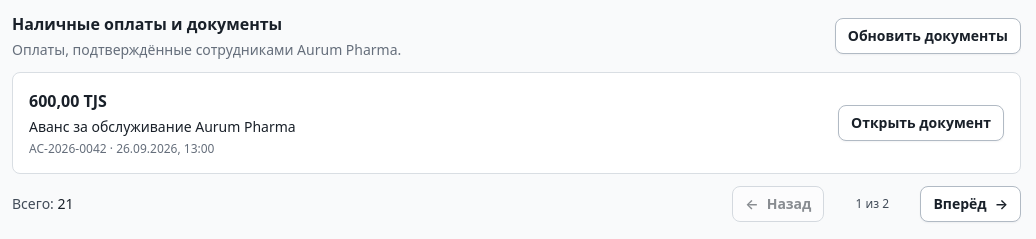
Test case: tenant cash payments and documents › paginates documents using the server offset
Click the button "Вперёд →". click: (971, 204)
box: [920,186,1021,222]
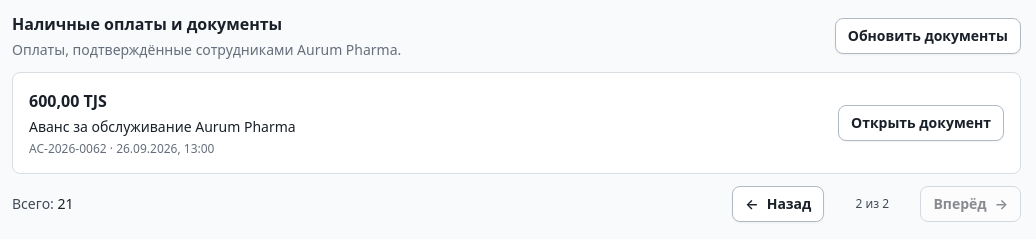
expect the text "AC-2026-0062" is shown: met, box [29,140,107,157]
